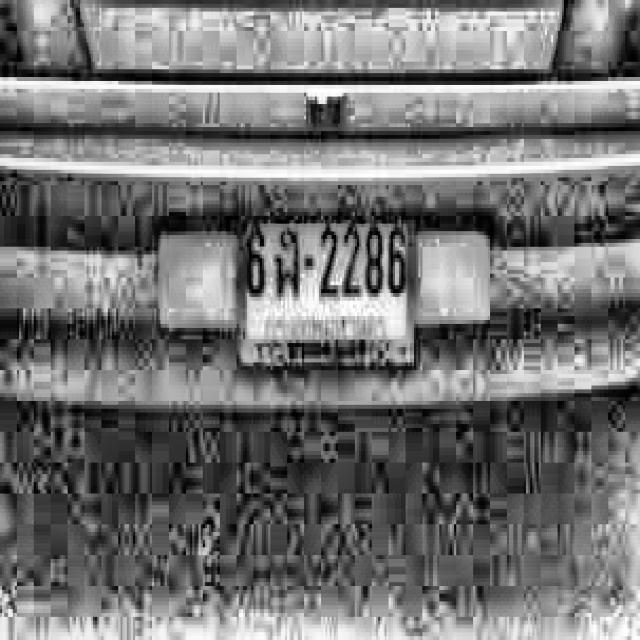license-plate: (236, 200, 421, 376)
